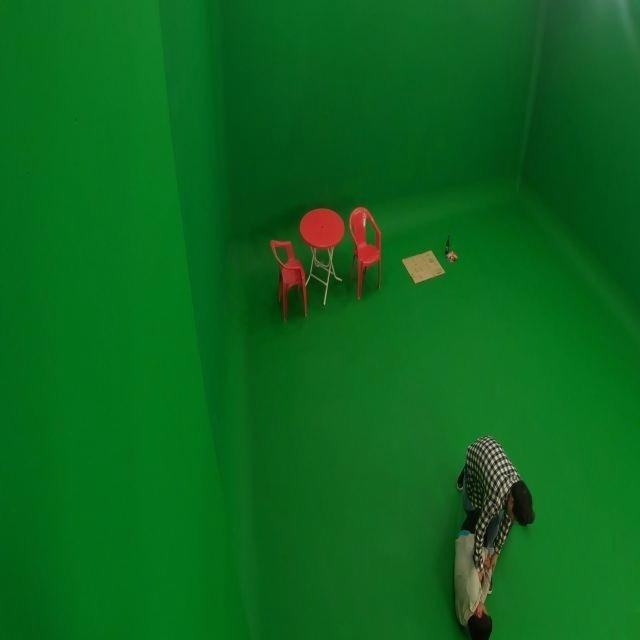fight: (449, 432, 537, 639)
